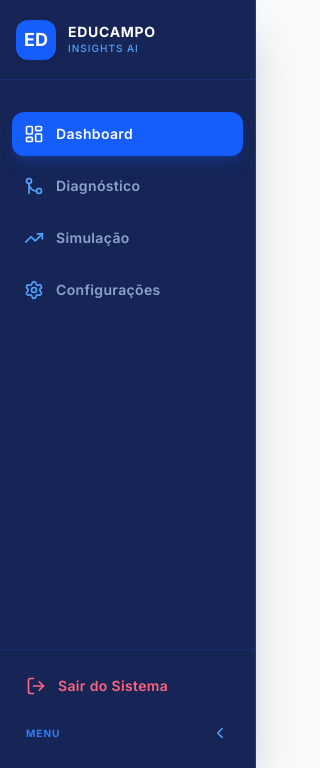
it: Componente Sidebar (components/Sidebar.tsx) › deve alternar entre expandido e recolhido ao clicar no botão de colapsar
The image size is (320, 768).
Expected: the text "Menu" is shown, [26,726,60,740]
Note: Encontra o botão pelo aria-label
Click the button with aria-label "Recolher menu": point(128, 733) [16,714,239,752]
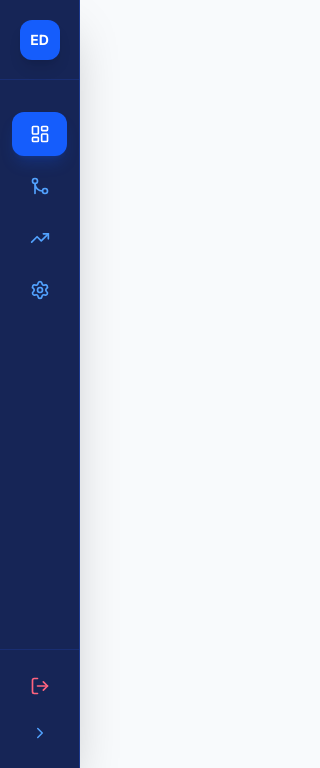
Expected: the text "Menu" is gone
